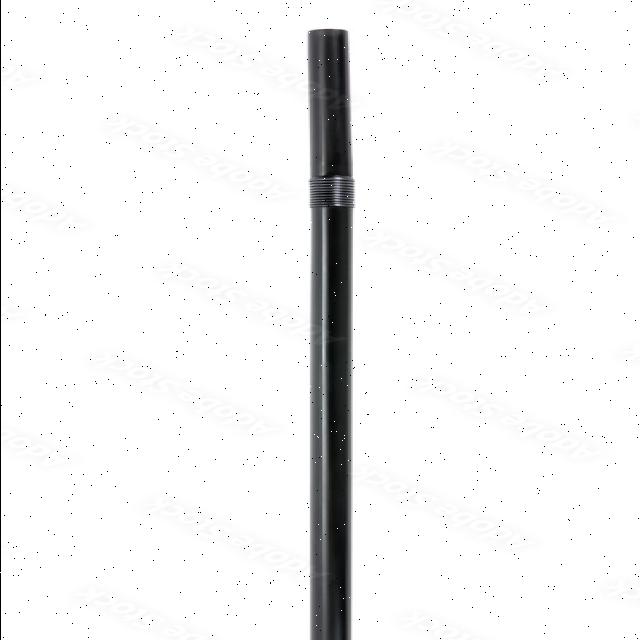plastic: (251, 13, 425, 640)
